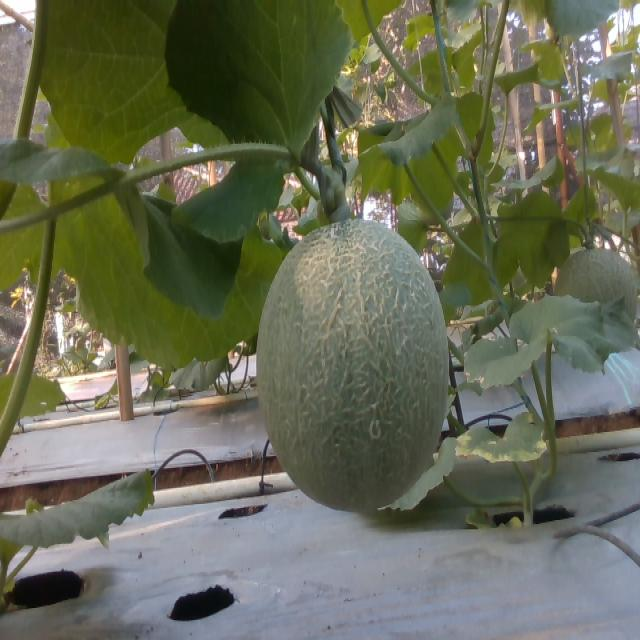melon: (257, 220, 449, 511)
